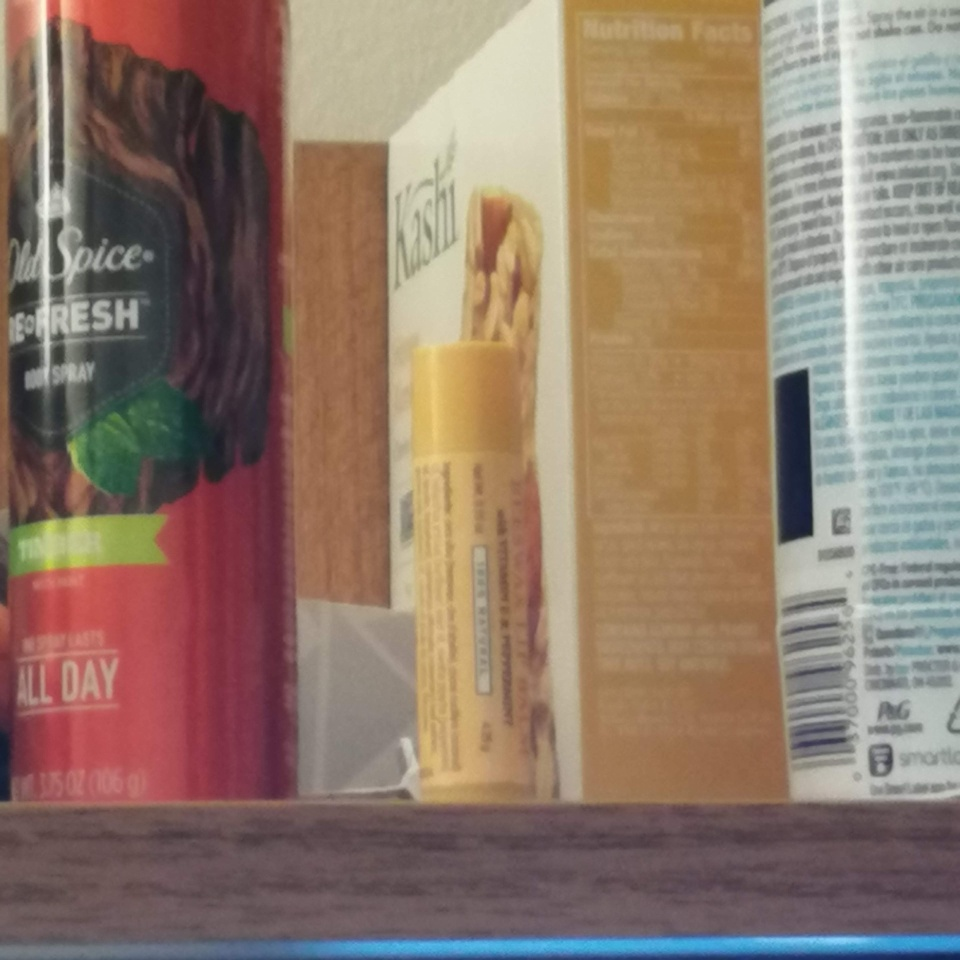chapstick: (408, 340, 546, 811)
